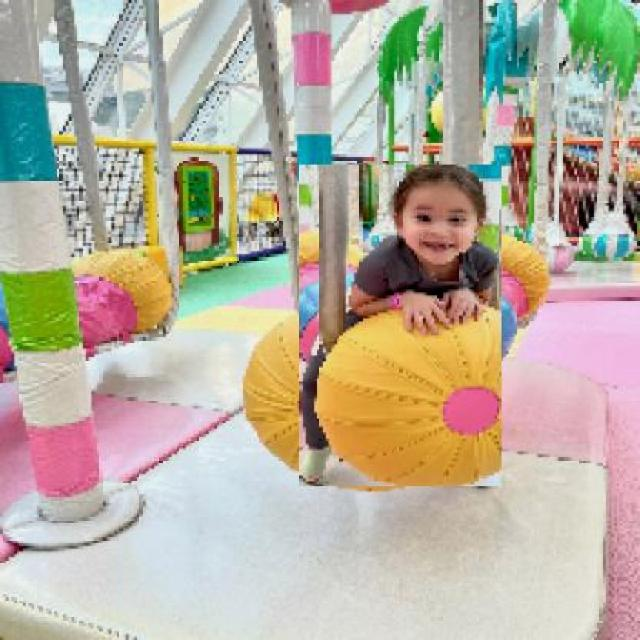child: (298, 166, 502, 488)
